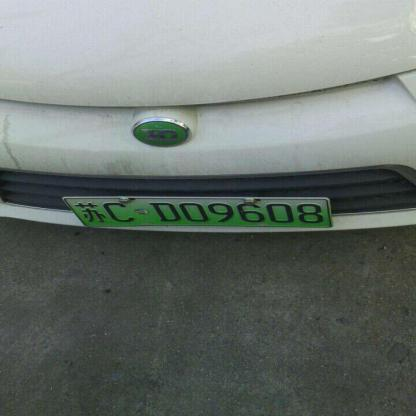lp: (63, 198, 330, 226)
